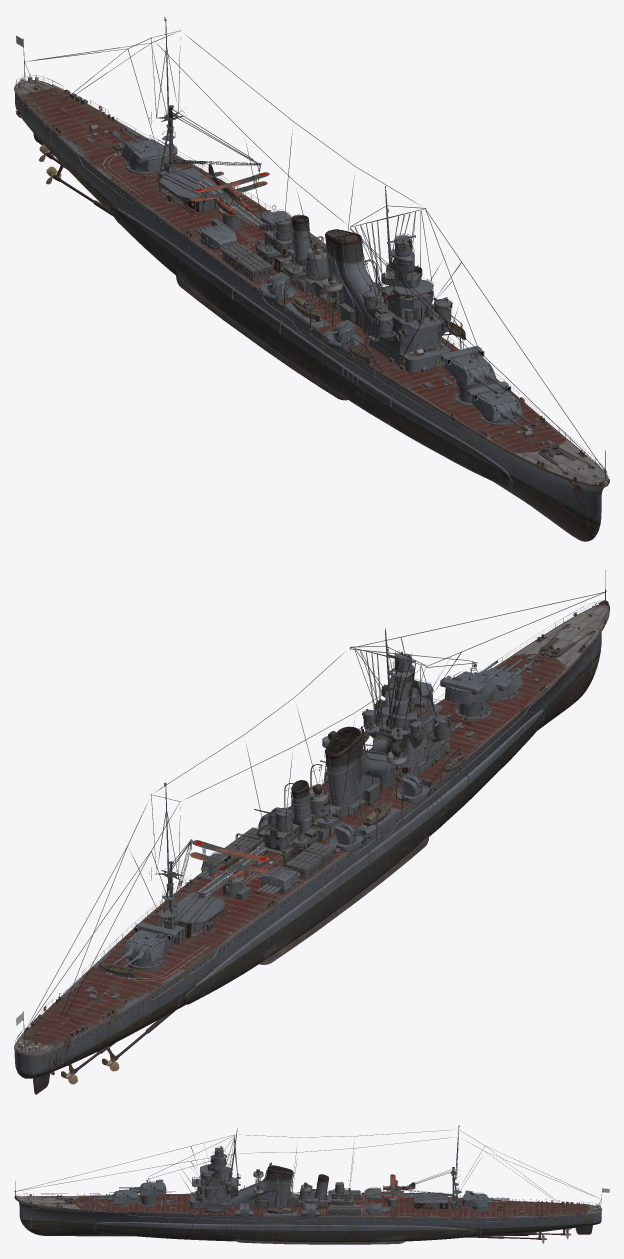
Rendered from ijn_furutaka_war_thunder-maximum-compressed.glb.
3 views of the same model, one above another, from view 1: azimuth 30°, elevation 25°; view 2: azimuth 150°, elevation 25°; view 3: azimuth 270°, elevation 25° (orthographic). The views are drawn at different scales.
Parts seen in each view (by area): view 1: Object_48, Object_8, Object_70, Object_44, Object_63, Object_45, Object_51, Object_46, Object_52, Object_5, Object_47, Object_41 (+9 smaller); view 2: Object_48, Object_8, Object_70, Object_63, Object_44, Object_51, Object_45, Object_5, Object_46, Object_52, Object_47, Object_41 (+10 smaller); view 3: Object_48, Object_70, Object_8, Object_45, Object_63, Object_51, Object_44, Object_46, Object_5, Object_47, Object_49, Object_50 (+10 smaller).
Boxes of the visible parts, box(x1,y1,x2,y2) form: Object_48: box(14, 85, 608, 523); Object_8: box(22, 87, 567, 453); Object_70: box(22, 118, 600, 541); Object_44: box(363, 246, 460, 372); Object_63: box(26, 33, 604, 471); Object_45: box(324, 229, 444, 369); Object_51: box(15, 75, 609, 485); Object_46: box(255, 214, 330, 301); Object_52: box(16, 99, 553, 456); Object_5: box(16, 80, 608, 484); Object_47: box(158, 159, 223, 216); Object_41: box(18, 38, 415, 377); Object_48: box(14, 600, 609, 1074); Object_8: box(21, 654, 567, 1046); Object_70: box(17, 652, 600, 1094); Object_63: box(24, 592, 605, 1031); Object_44: box(363, 651, 461, 777); Object_51: box(15, 570, 609, 1064); Object_45: box(324, 693, 447, 817); Object_5: box(15, 604, 609, 1053); Object_46: box(255, 780, 342, 867); Object_52: box(54, 647, 560, 1054); Object_47: box(154, 887, 232, 944); Object_41: box(18, 650, 461, 1052); Object_48: box(14, 1191, 602, 1230); Object_70: box(20, 1219, 601, 1244); Object_8: box(75, 1194, 587, 1217); Object_45: box(190, 1162, 294, 1209); Object_63: box(16, 1129, 599, 1213); Object_51: box(14, 1181, 601, 1231); Object_44: box(188, 1158, 240, 1210); Object_46: box(290, 1174, 353, 1208); Object_5: box(16, 1195, 601, 1215); Object_47: box(410, 1192, 588, 1217); Object_49: box(196, 1151, 452, 1206); Object_50: box(65, 1201, 360, 1217).
Bounding box in the file's own units: 21.34 × 39.36 × 188.
28 materials, 28 textured.
